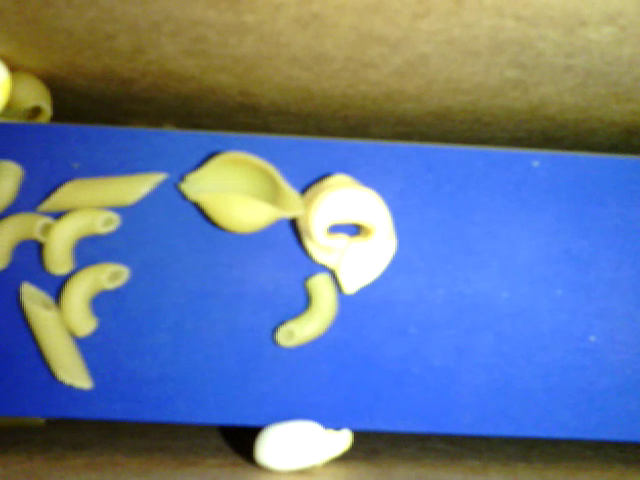elbow: (273, 272, 340, 352), (56, 263, 127, 338), (42, 209, 121, 276), (1, 209, 62, 269)
penne: (21, 280, 92, 390), (35, 171, 168, 212)
shell: (175, 149, 308, 233), (1, 69, 53, 129)
tortellini: (294, 171, 398, 297)
